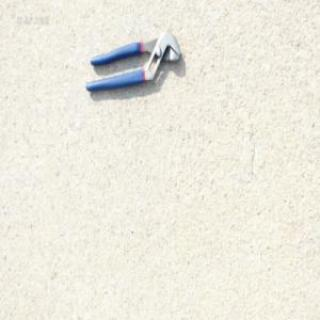Pliertrack_idkeyframe: (84, 27, 181, 92)
